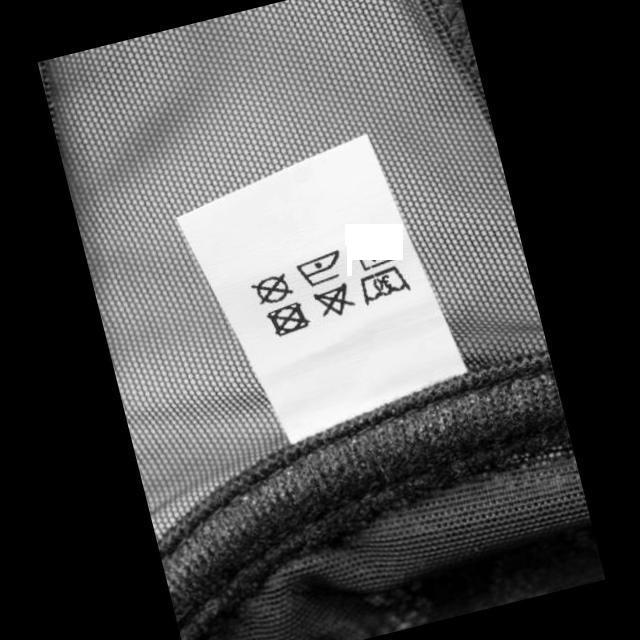30C: (352, 260, 412, 308)
DN_bleach: (307, 278, 358, 323)
DN_dry_clean: (246, 268, 294, 310)
DN_tumble_dry: (260, 298, 312, 341)
iron_low: (290, 246, 346, 290)
